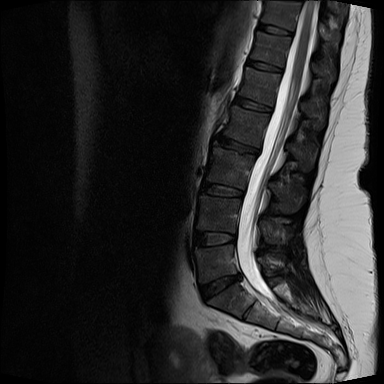Degenerative Disc Disease (DDD): (207, 133, 265, 160)
Lumbar Disc Bulge (LDB): (192, 270, 245, 306)
Normal IVD: (185, 225, 242, 253), (225, 90, 278, 118), (194, 175, 248, 201), (240, 56, 287, 77), (253, 20, 297, 41)
Spinal Stenosis (SS): (232, 264, 249, 290), (252, 140, 268, 161)
